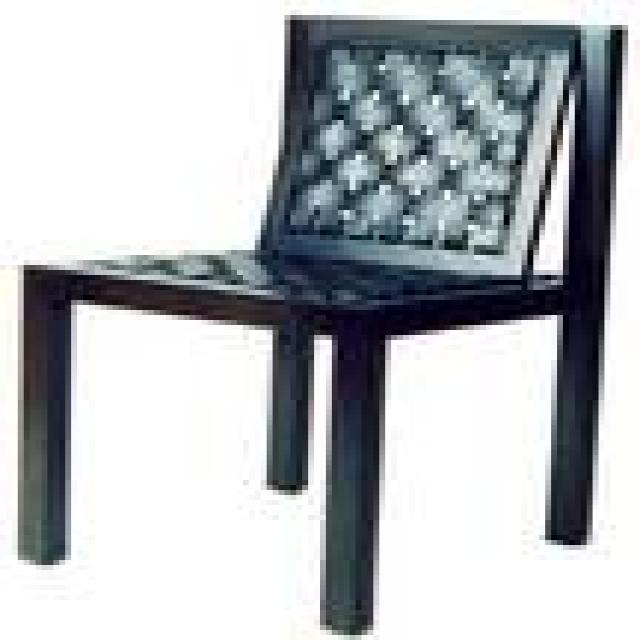chair: (12, 10, 622, 630)
